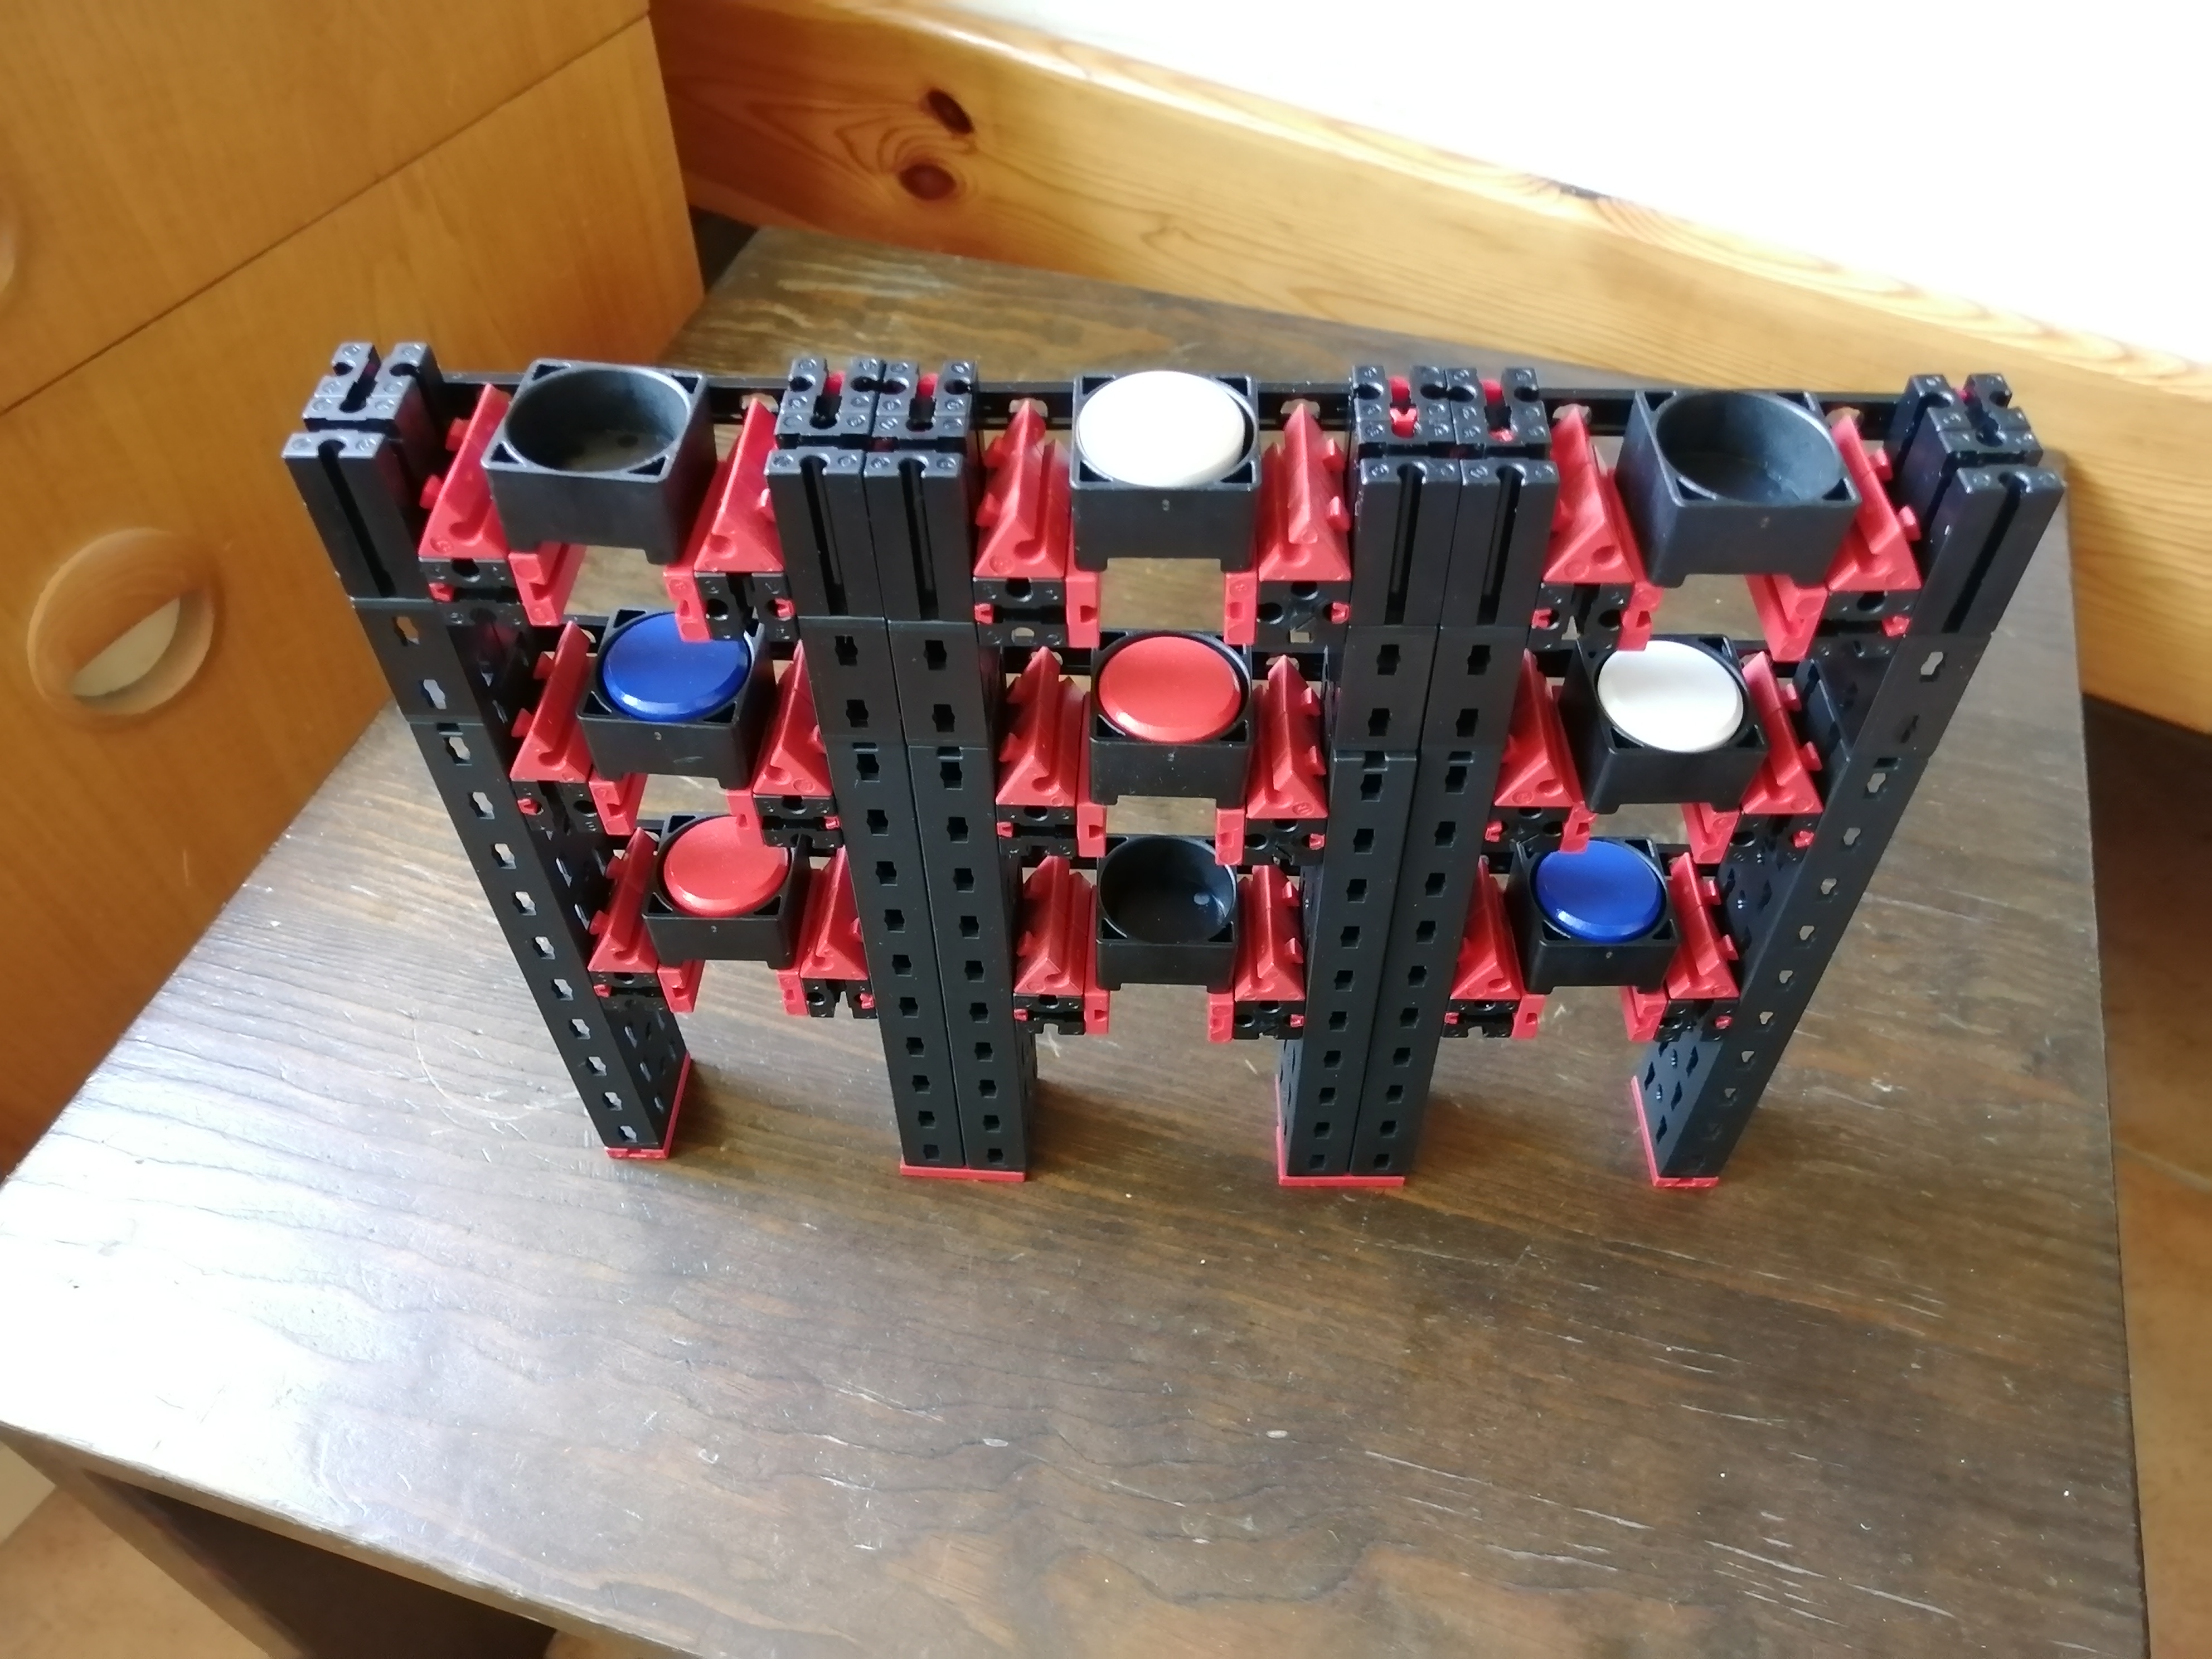Behaelter: (496, 366, 709, 551), (1068, 369, 1261, 572), (1623, 392, 1838, 572), (1580, 648, 1757, 809), (587, 633, 766, 788), (1094, 636, 1252, 803), (1510, 863, 1679, 1007), (1096, 852, 1240, 999), (648, 835, 803, 964)
WerkStueck: (1085, 375, 1244, 486), (1599, 643, 1740, 748), (1103, 638, 1238, 739), (604, 634, 751, 718), (1541, 857, 1651, 946), (665, 838, 791, 913)
